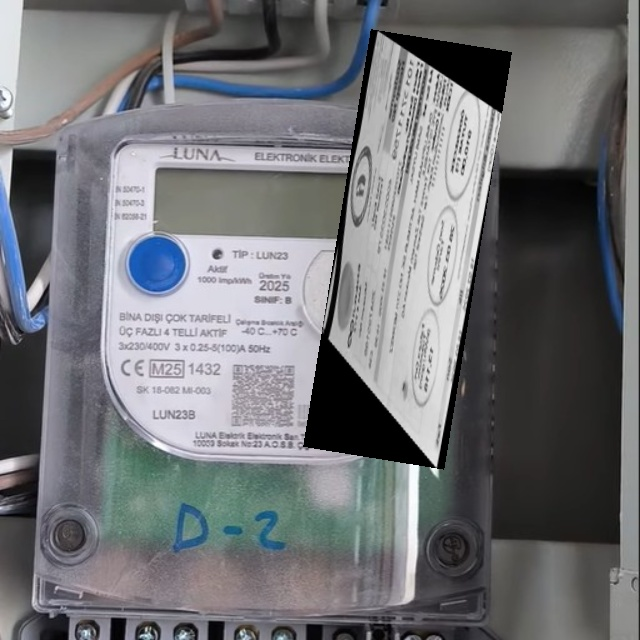electricity-bill: (303, 28, 512, 469)
